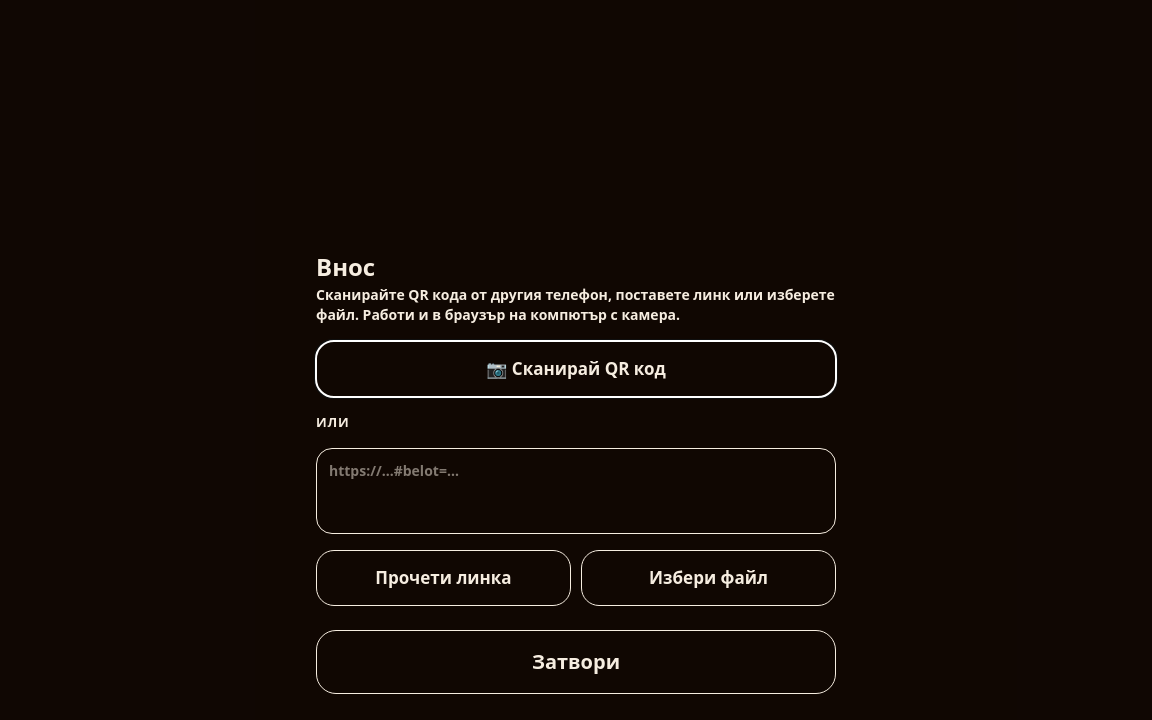
Scenario: ImportSheet › reading › shows "bad link" for a link whose code cannot be read
Type "http://x/#belot=zzzz" into the text box named "Линк или код" at (576, 491), box 316,448 -> 836,534
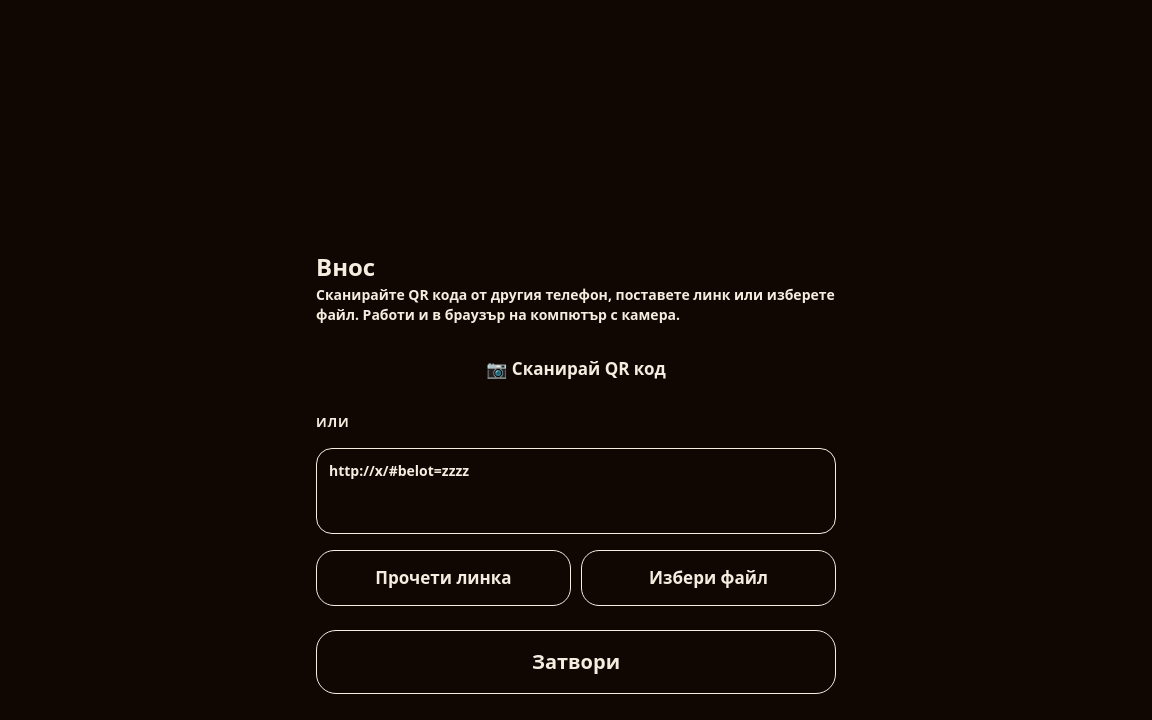
Click the button "Прочети линка" at (444, 578), box 316,550 -> 571,606
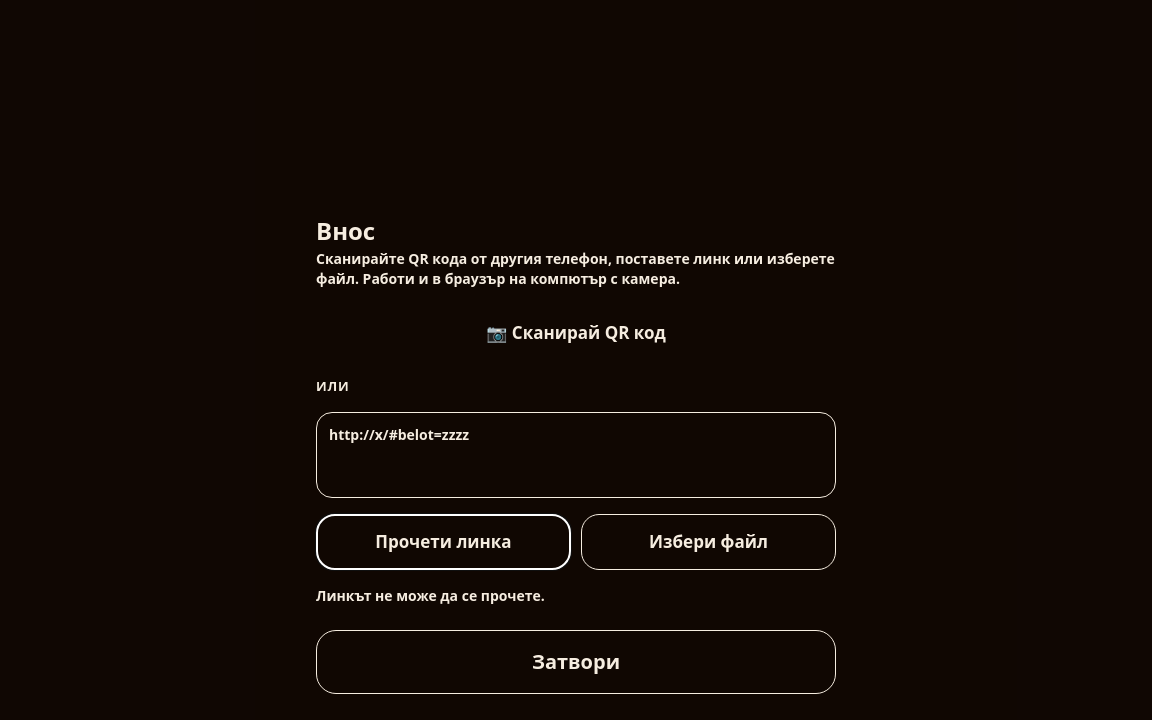
expect the text "Линкът не може да се прочете." is shown: met, box 316,586 -> 545,605
